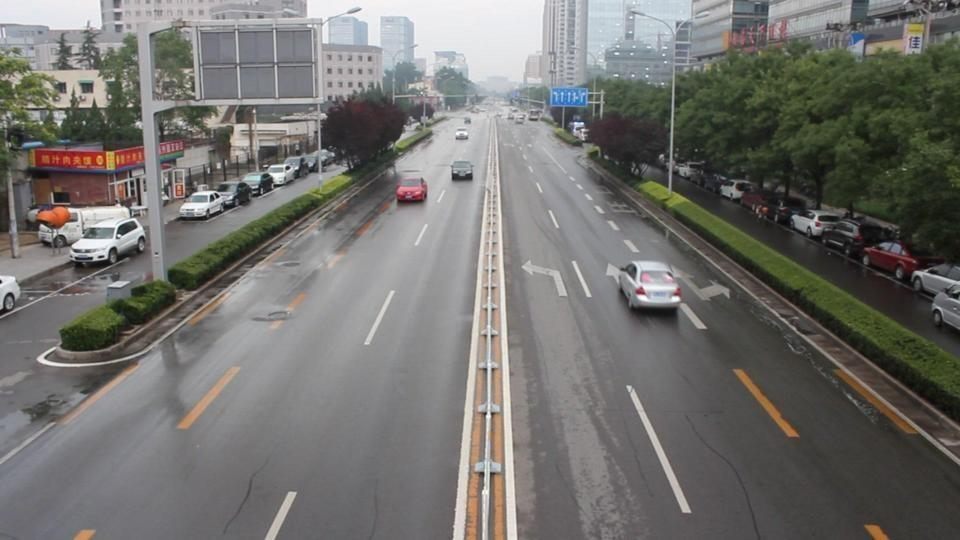car: (861, 239, 945, 286), (609, 259, 683, 311), (70, 218, 147, 267), (821, 215, 900, 261), (912, 262, 960, 299), (789, 209, 845, 239), (34, 208, 77, 244), (930, 282, 960, 332), (178, 191, 226, 220), (766, 197, 809, 226), (27, 204, 74, 228), (213, 180, 251, 209), (239, 171, 276, 197), (396, 173, 428, 203), (38, 225, 73, 248), (0, 275, 21, 312), (719, 179, 749, 203), (265, 164, 296, 186), (451, 158, 474, 181), (285, 156, 310, 177), (455, 129, 469, 141)
